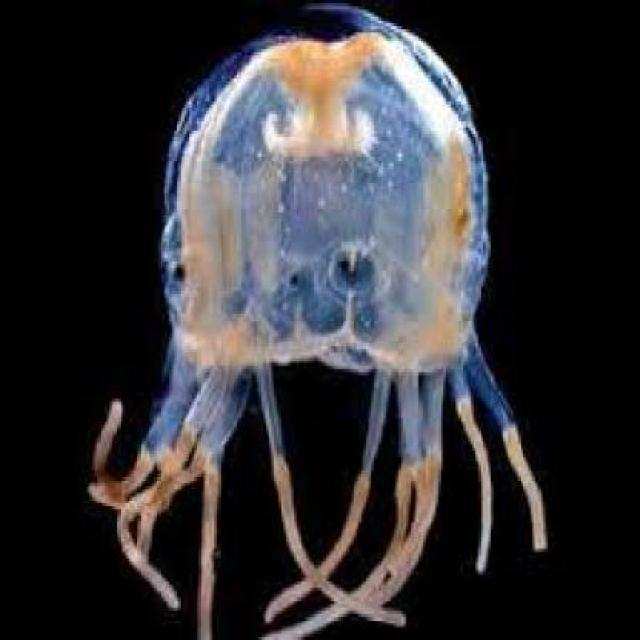Jellyfish: (82, 6, 550, 634)
